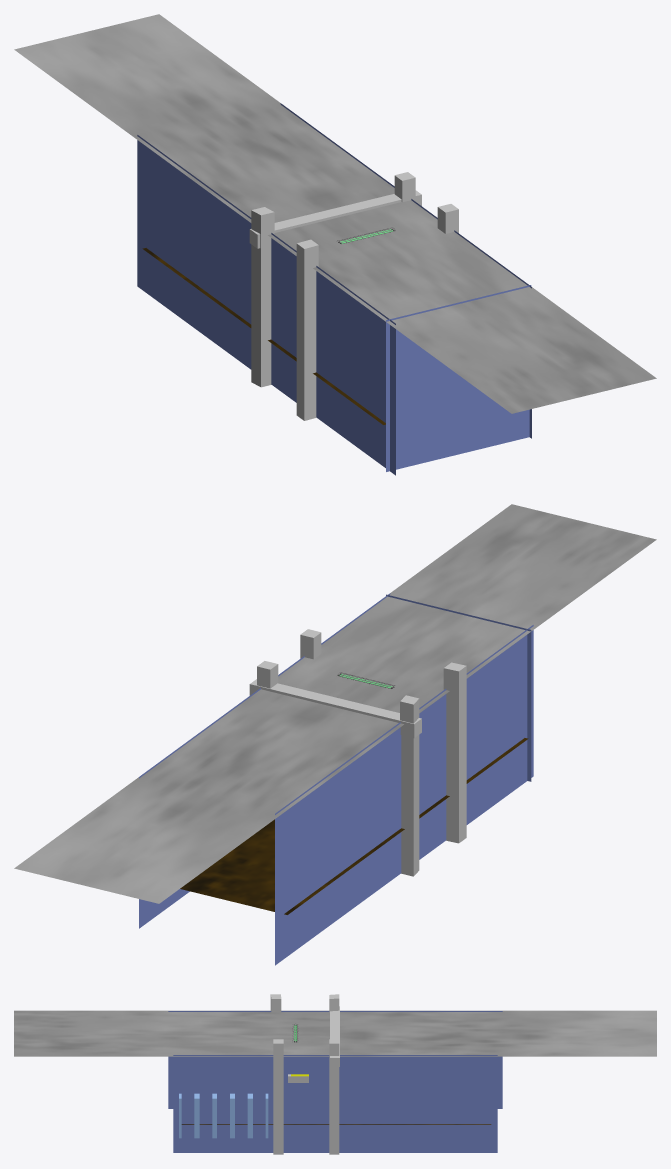
File: banheiroTop.fbx
3 renders of one model, top to bottom at view 1: azimuth 30°, elevation 25°; view 2: azimuth 150°, elevation 25°; view 3: azimuth 270°, elevation 25°, orthographic. The views are drawn at different scales.
Parts seen in each view (by area): view 1: Cube.002; view 2: Cube.002; view 3: Cube.002, Cube.006, Cube.007, Cube.009, Cube.010, Cube.008.
Part boxes in pixels (x1,y1,x2,y2): Cube.002: (14,14,656,475); Cube.002: (14,504,656,965); Cube.002: (14,994,656,1154); Cube.006: (250,1093,268,1138); Cube.007: (232,1093,250,1138); Cube.009: (197,1093,214,1138); Cube.010: (179,1093,196,1138); Cube.008: (214,1093,232,1138).
Size of the model in its own units: 2510 by 2444 by 12815.
